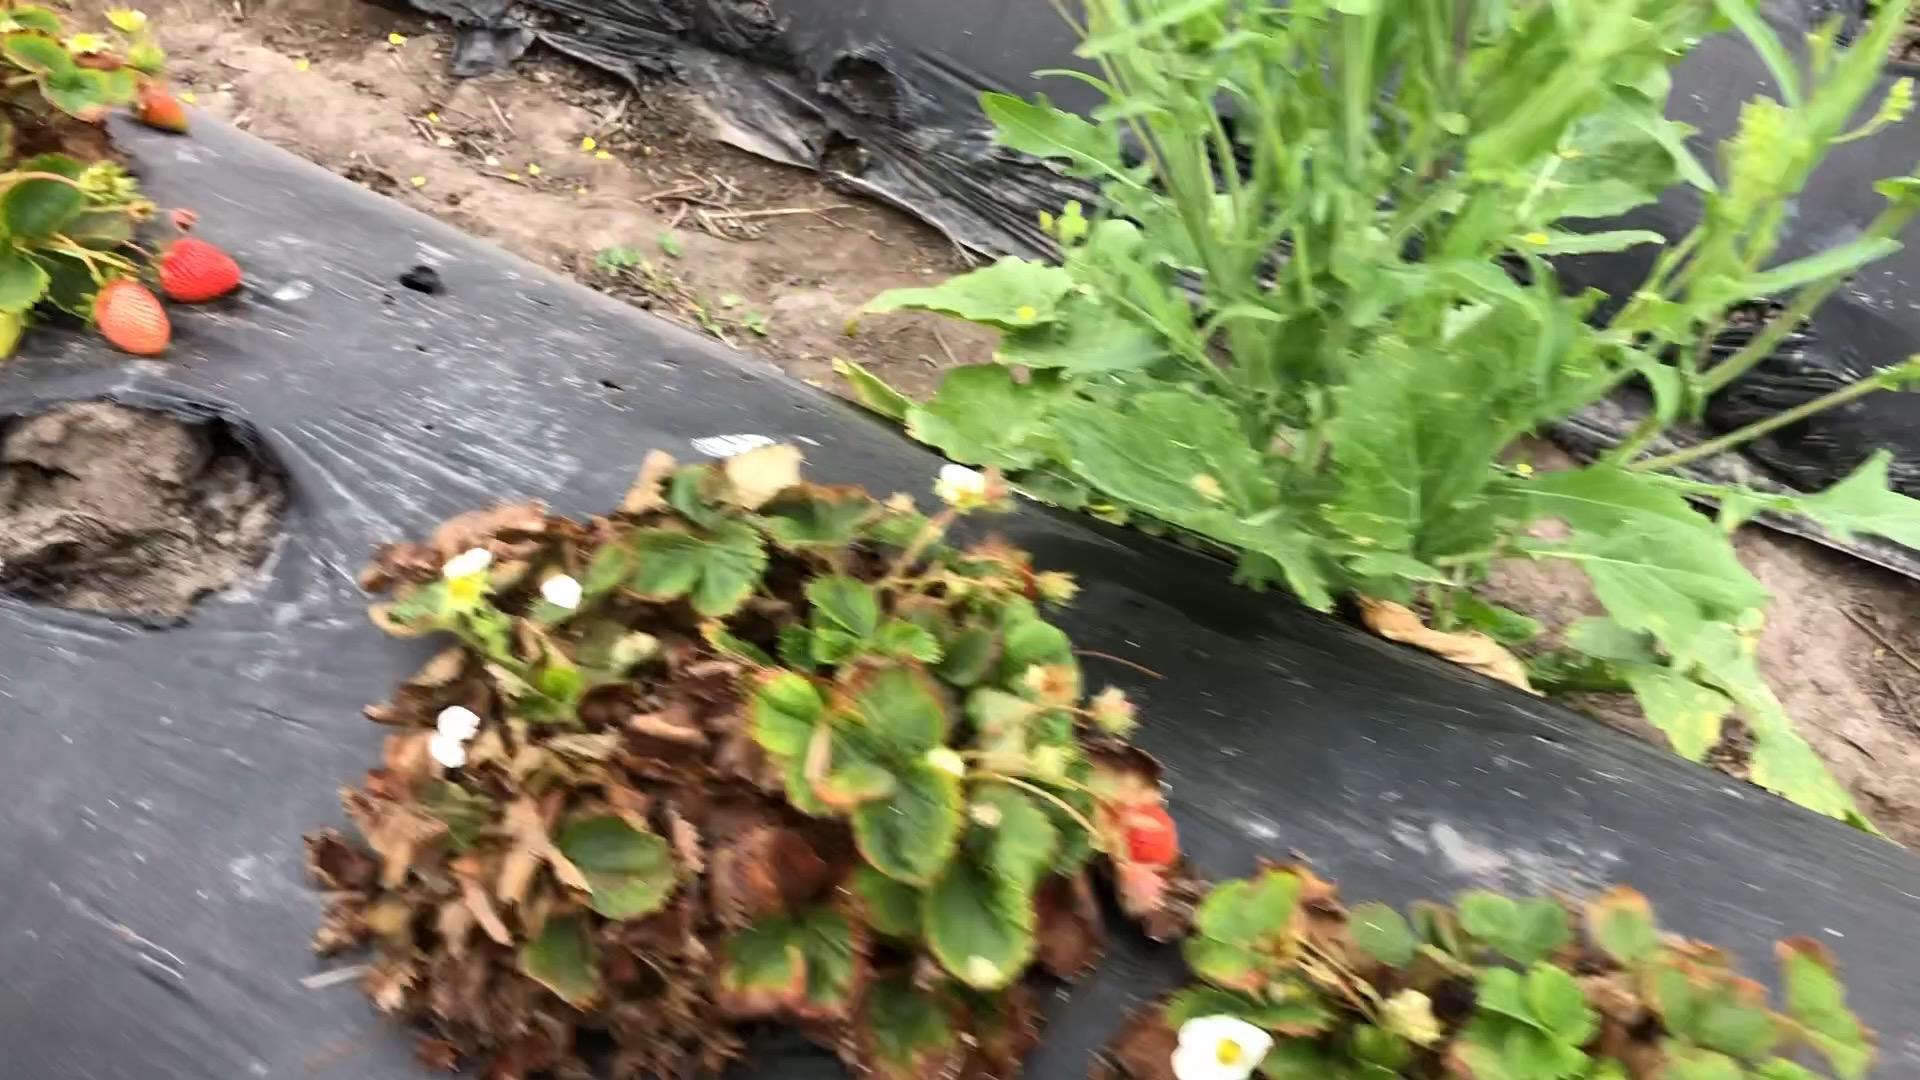ripe_strawberry: (82, 265, 179, 363), (1091, 787, 1189, 873), (149, 235, 248, 310)
unripe_strawberry: (129, 78, 196, 144)
